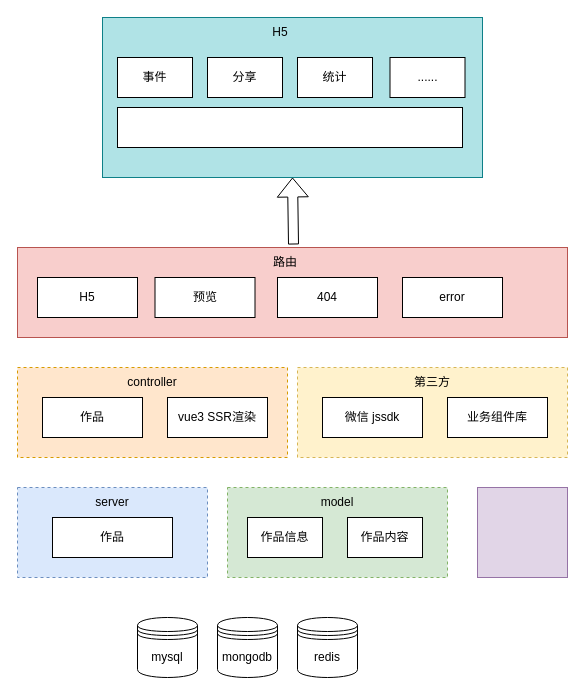
Image size: 585x695. Some labels were removed from this diagram. The box of each missing label's shape, as (x1, y1, x2, y2) in pixels:
cache: (476, 486, 568, 578)
HTML: (116, 106, 462, 148)
